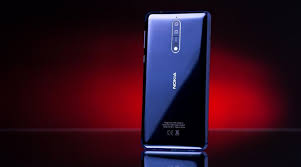nokia: (137, 7, 215, 156)
